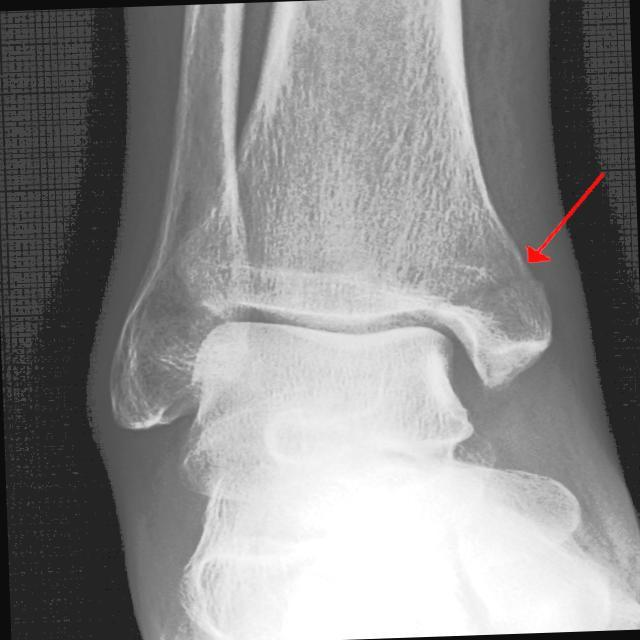Intra-articular fracture: (482, 260, 544, 325)
